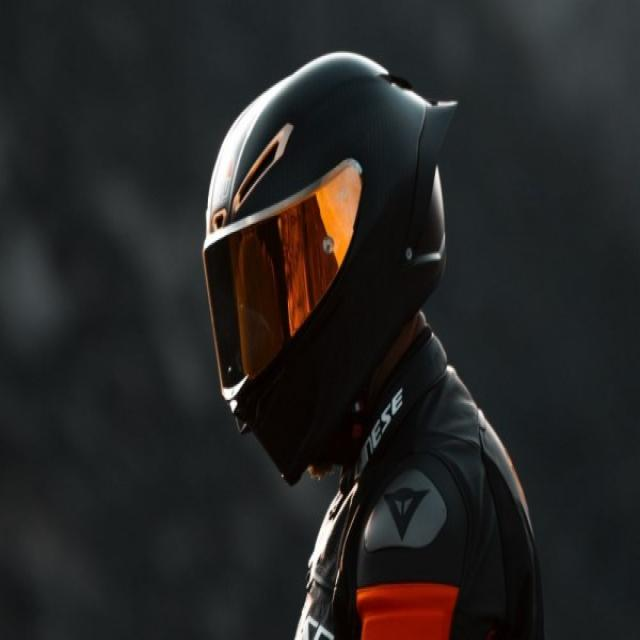Helm: (198, 40, 471, 500)
